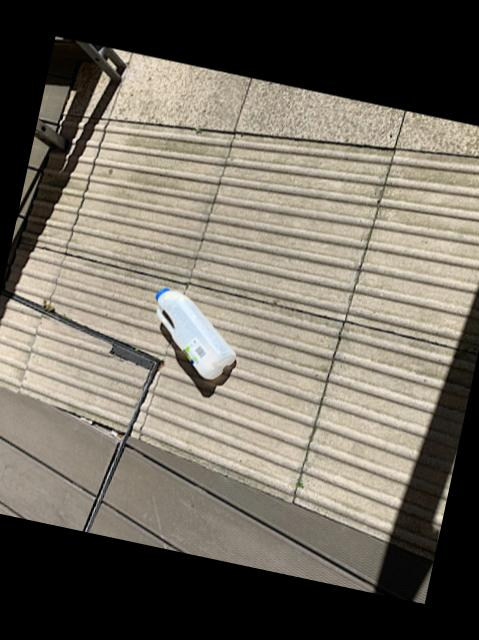plastic: (154, 289, 233, 380)
